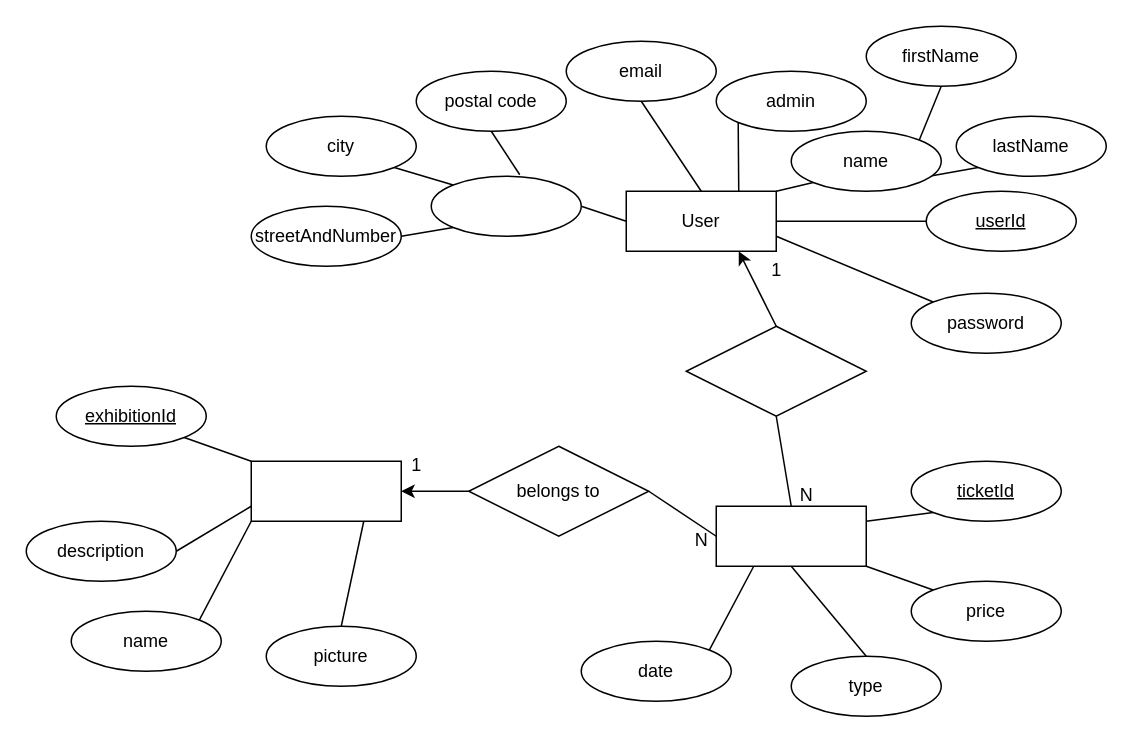
This 1133x743 diagram has some shape labels left out. Here are the shapes that lost their labels. From the top down, the centre of each, then its label:
At point 505,205: "address".
At point 775,370: "owns".
At point 325,490: "Exhibiton".
At point 790,535: "Ticket".
